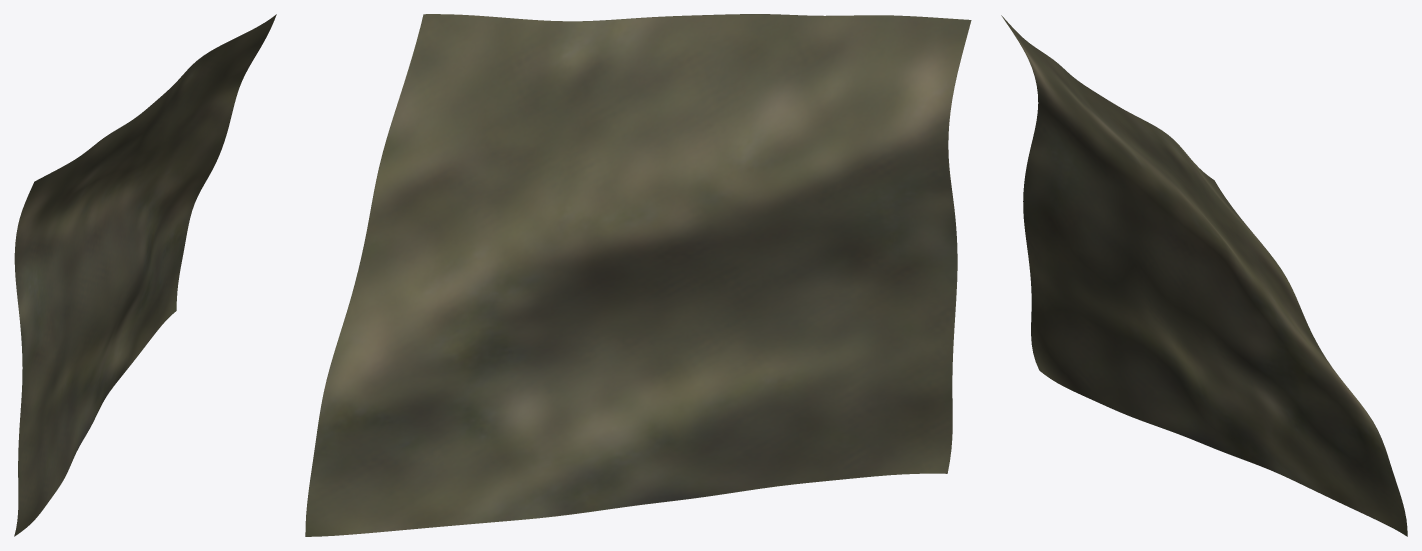
Rendered from ground_mid_02_06.obj.
3 views of the same model, side by side, from view 1: azimuth 30°, elevation 25°; view 2: azimuth 150°, elevation 25°; view 3: azimuth 270°, elevation 25° (orthographic). The views are drawn at different scales.
Parts seen in each view (by area): view 1: ground_mid_02_06; view 2: ground_mid_02_06; view 3: ground_mid_02_06.
Boxes of the visible parts, bbox=[...] form: ground_mid_02_06: bbox=[14, 14, 276, 536]; ground_mid_02_06: bbox=[305, 14, 971, 536]; ground_mid_02_06: bbox=[1001, 15, 1407, 536].
Size of the model in its own units: 200 by 200 by 207.
Materials: 1 (1 with a texture image).
